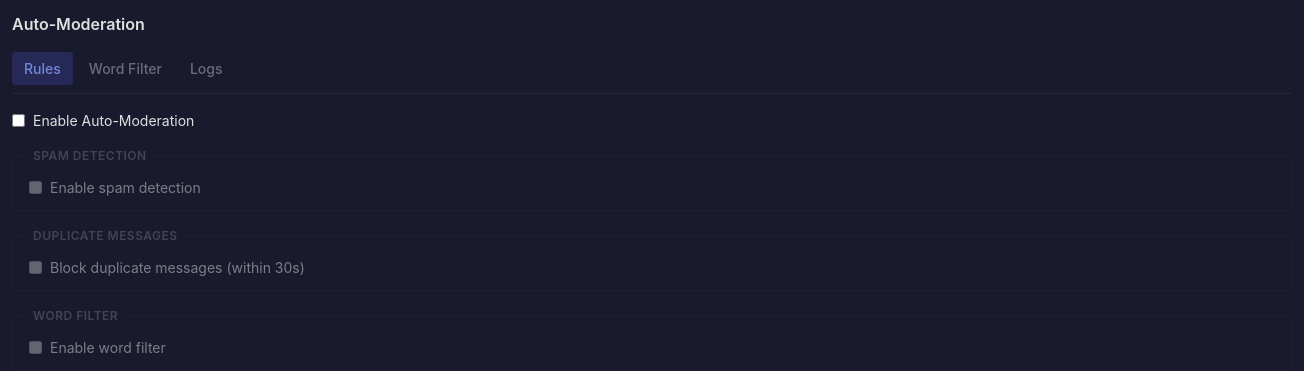
AutomodSettings › removes a word filter
Check: the heading "Auto-Moderation" is shown, box [12,14,145,34]
What coordinates should you click on to do the following:
click the button "Word Filter"
I would click on:
 (125, 68)
Its box is [77,52,174,85].
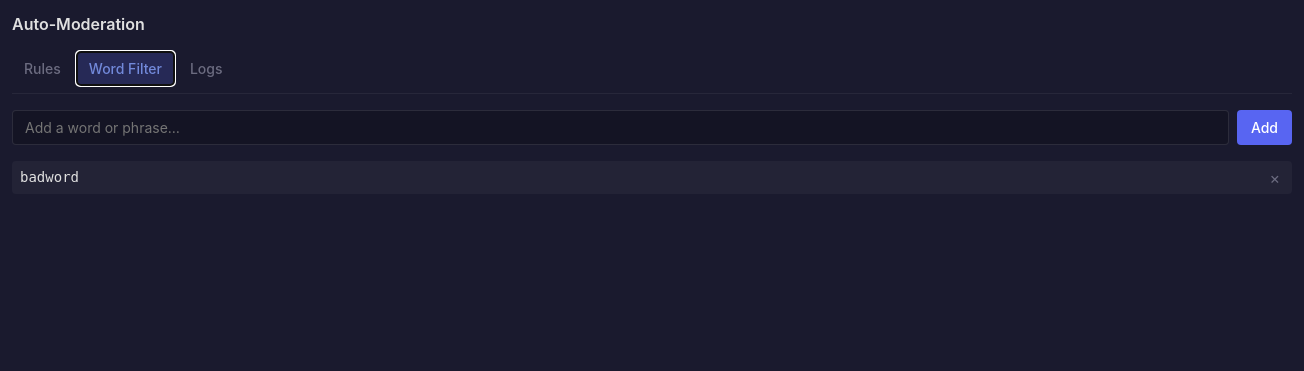
Check: the text "badword" is shown, box [20,167,79,188]
What coordinates should you click on to do the following:
click the button named "Remove badword"
I would click on:
 (1275, 178)
Its box is [1265,170,1284,186].
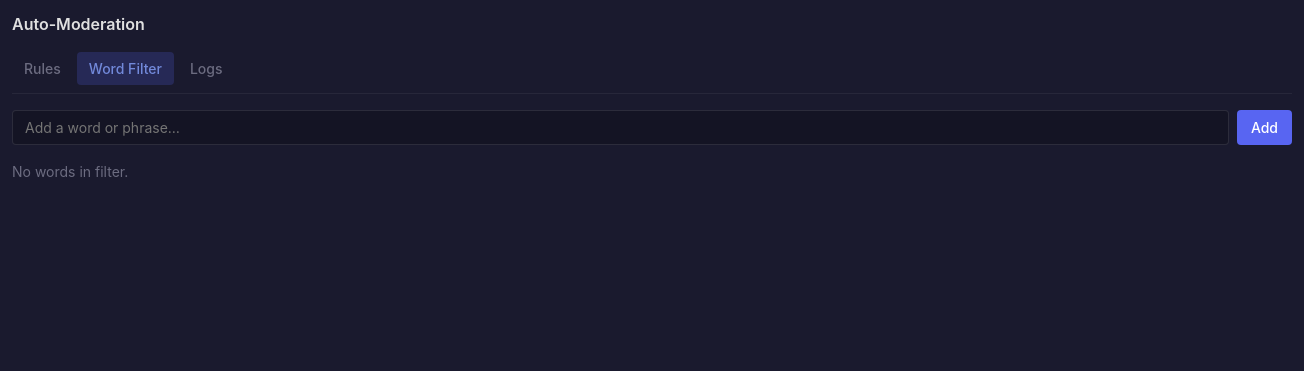
Check: the text "badword" is gone
